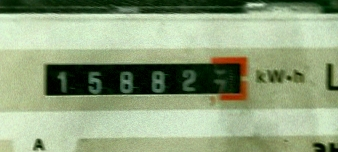1: (55, 69, 69, 94)
2: (181, 66, 197, 92)
5: (86, 69, 102, 94)
7: (212, 76, 226, 92)
8: (117, 69, 134, 93), (149, 67, 165, 92)
screen: (31, 49, 257, 109)
